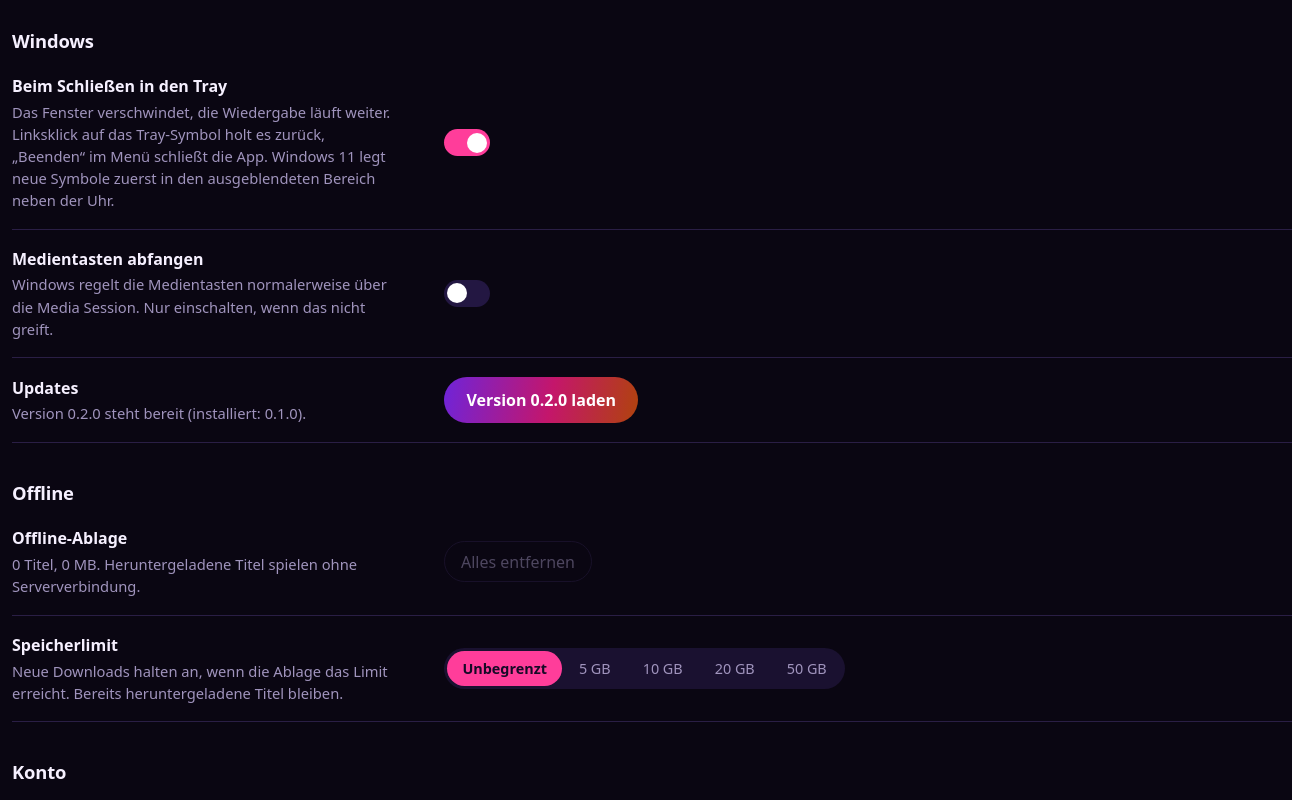
Test: Update-Ablauf › bleibt bei einem Fehler beim Einspielen bedienbar
(page scrolled)
Click the button "Version 0.2.0 laden". click: click(541, 400)
box: [444, 377, 638, 423]
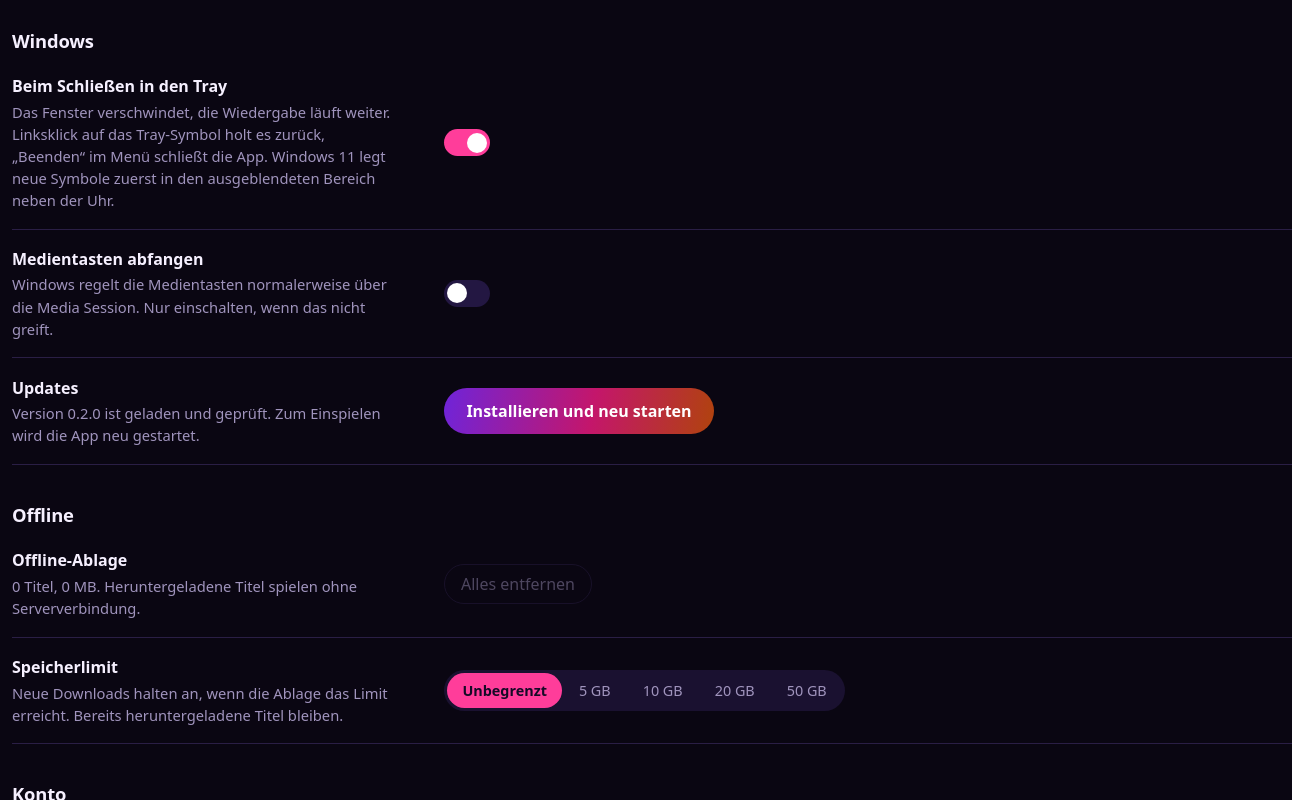
Click the button "Installieren und neu starten". click: click(579, 411)
box: [444, 388, 714, 434]
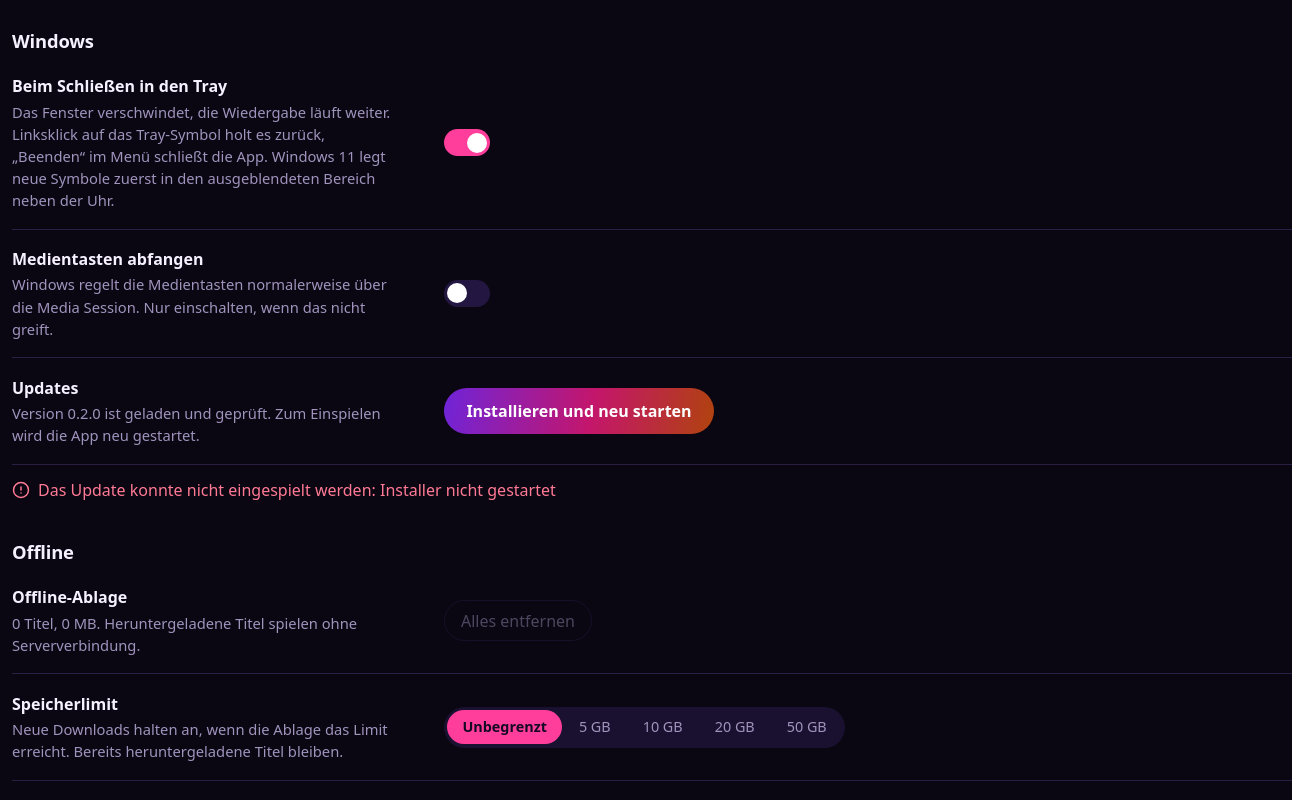
Check: the message shows "Installer nicht gestartet", box [38, 479, 556, 501]
